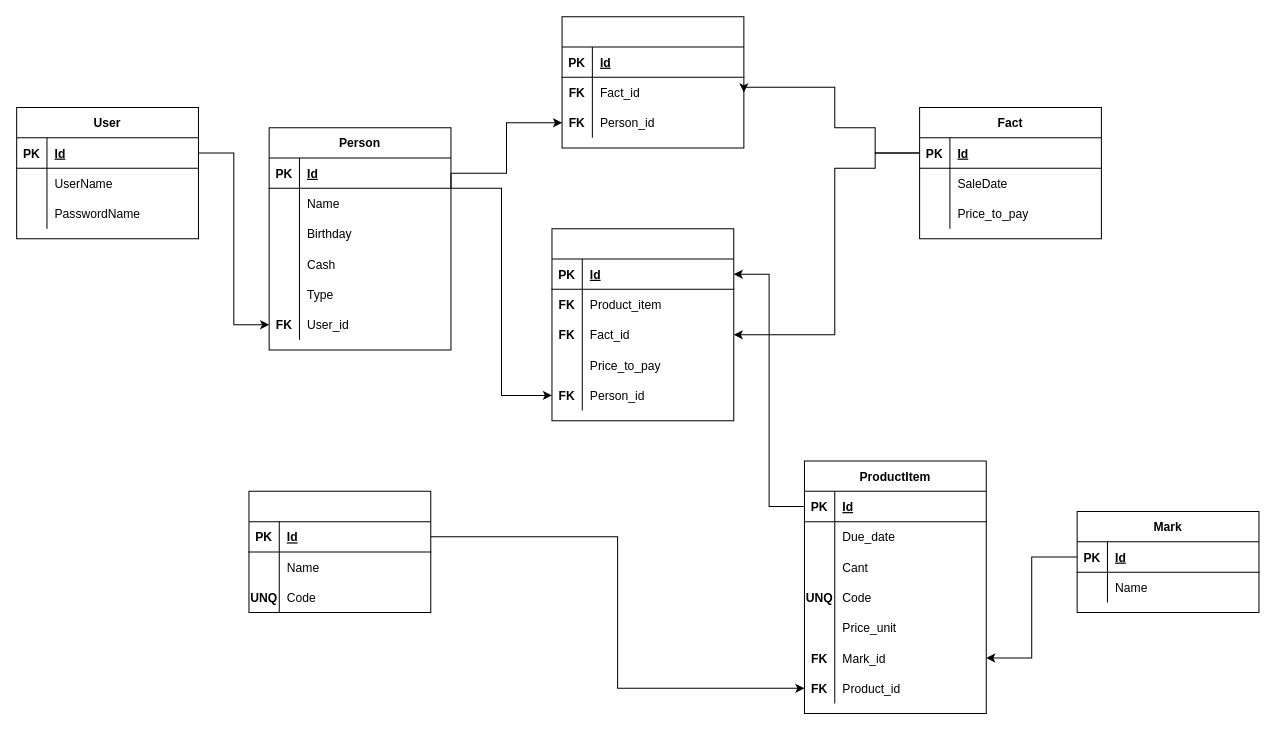
This 1276x730 diagram has some shape labels left out. The shapes that lost their labels are listed below. From the top down, each one's box as (x1, y1, x2, y2) in pixels, then its label:
(561, 16, 744, 148): History
(551, 228, 734, 421): Sales
(248, 490, 431, 613): Product
